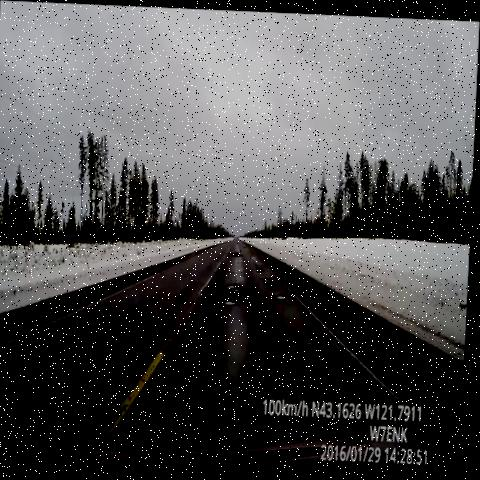pothole: (215, 291, 242, 322), (260, 270, 281, 292), (274, 285, 290, 306), (228, 246, 249, 260), (253, 257, 267, 275), (227, 280, 245, 291)
